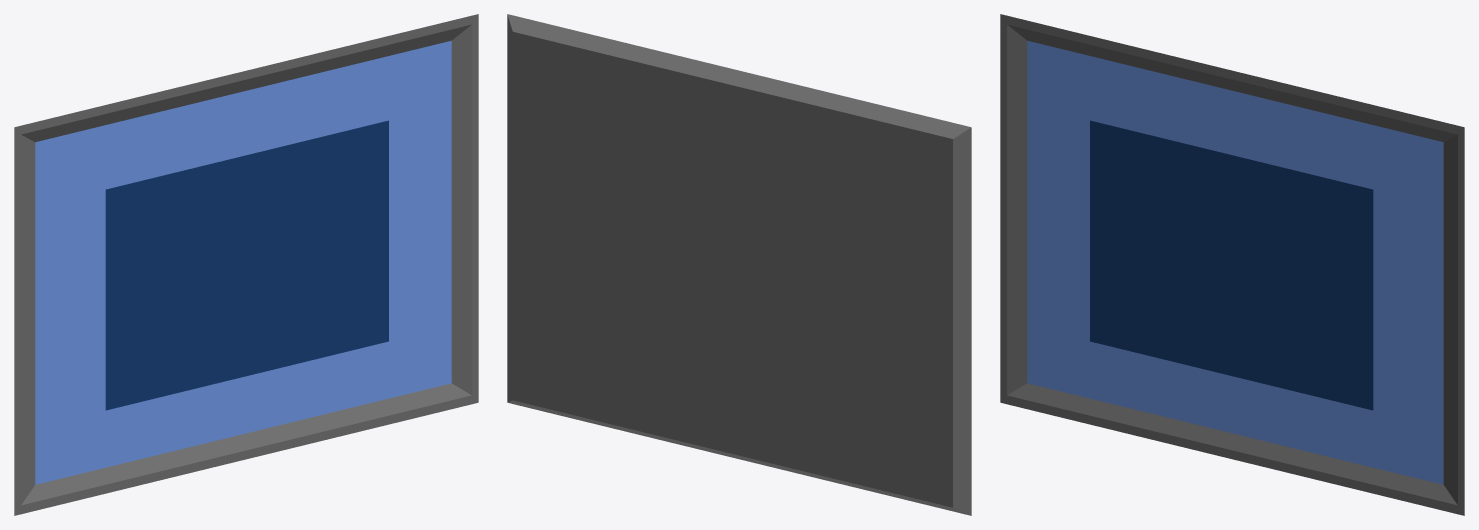
The model's file is painting2.FBX.
The picture shows the model from 3 angles, left to right: view 1: azimuth 30°, elevation 25°; view 2: azimuth 150°, elevation 25°; view 3: azimuth 330°, elevation 25°; orthographic projection.
Visible parts, largest first — view 1: painting2; view 2: painting2; view 3: painting2.
Part boxes in pixels (bbox=[...]): painting2: bbox=[14, 14, 478, 515]; painting2: bbox=[507, 14, 971, 515]; painting2: bbox=[1000, 14, 1464, 515].
Bounding box in the file's own units: 188 × 150 × 5.11.
